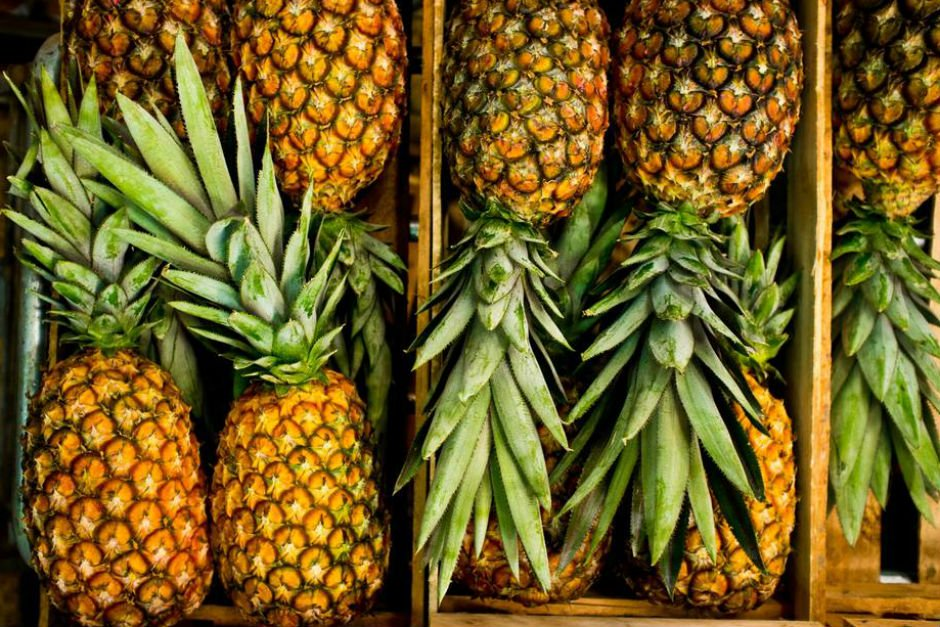pineapple: (15, 357, 210, 627), (609, 1, 816, 228), (217, 365, 384, 627), (447, 4, 609, 225)
